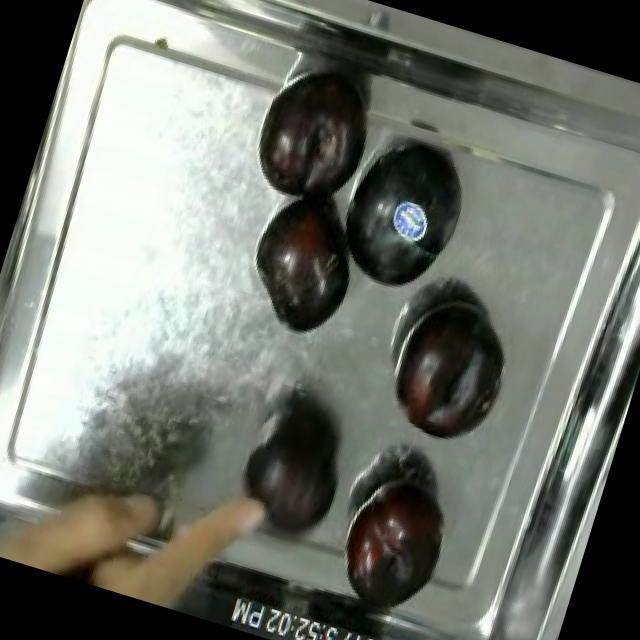Fruit: (320, 122, 483, 314), (230, 181, 378, 351), (320, 460, 464, 631), (376, 285, 514, 454), (223, 391, 364, 552), (241, 64, 375, 218)
